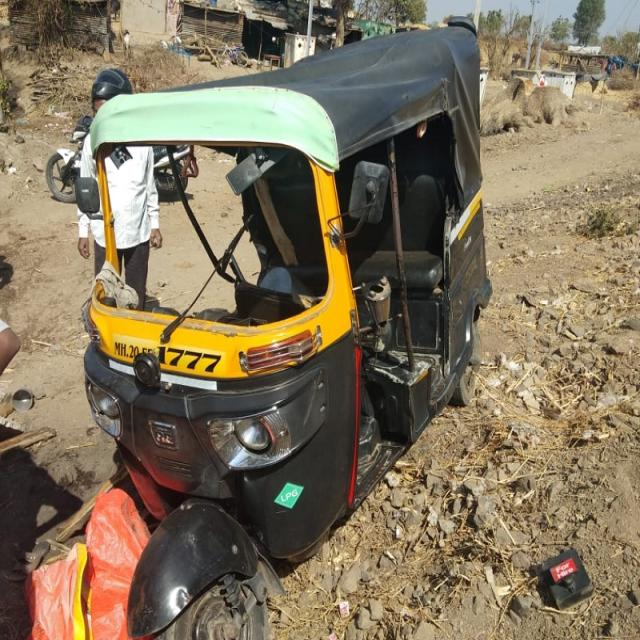autorickshaw: (79, 18, 491, 638)
